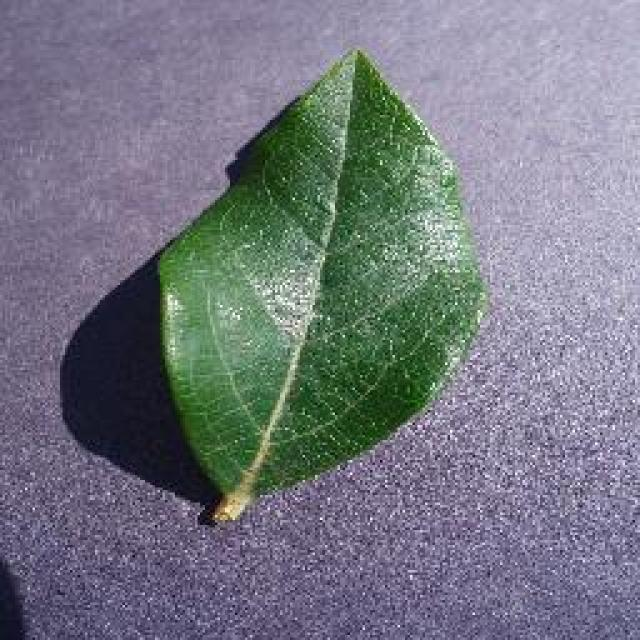Blu_healthy: (160, 111, 495, 442)
